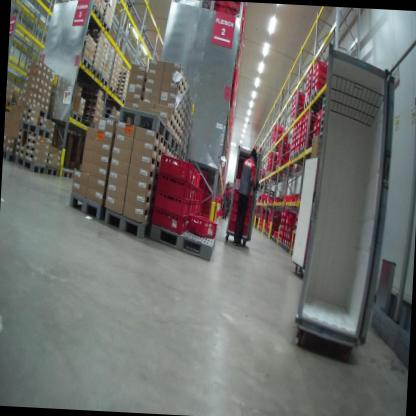forklift: (150, 204, 189, 236), (156, 154, 195, 185), (155, 172, 192, 203), (185, 211, 219, 242), (153, 189, 190, 217), (185, 186, 201, 218), (227, 219, 247, 238), (229, 209, 250, 226), (233, 188, 253, 205), (231, 199, 250, 216), (189, 164, 203, 185), (200, 202, 216, 220), (235, 178, 253, 194), (202, 193, 218, 207), (191, 200, 200, 216), (188, 184, 196, 201)
pallet: (145, 219, 220, 262), (117, 105, 171, 145), (101, 204, 152, 239), (66, 189, 104, 220), (12, 152, 48, 176), (18, 119, 55, 141), (270, 234, 293, 256), (302, 98, 326, 116), (59, 163, 79, 180), (26, 103, 47, 119), (288, 153, 306, 170), (308, 90, 329, 104), (98, 17, 112, 38), (68, 106, 84, 124), (78, 53, 93, 72), (166, 132, 179, 153), (90, 6, 103, 25), (46, 164, 64, 176), (81, 117, 97, 130), (3, 146, 15, 163), (177, 144, 188, 162), (89, 66, 102, 81), (274, 163, 289, 174), (100, 74, 109, 90), (108, 83, 117, 99), (115, 95, 127, 107), (293, 151, 306, 162), (299, 146, 311, 157), (289, 118, 297, 128), (285, 245, 290, 255), (280, 242, 286, 249), (273, 237, 278, 243), (278, 240, 281, 248)
small_load_carrier: (304, 66, 323, 121), (224, 7, 244, 24), (311, 60, 329, 78), (312, 69, 328, 86), (311, 76, 327, 92), (228, 85, 237, 111), (311, 84, 327, 98), (211, 2, 226, 16), (227, 1, 246, 12), (278, 137, 291, 151), (271, 123, 286, 135), (302, 111, 314, 125), (283, 194, 299, 204), (299, 137, 310, 151), (272, 128, 286, 139), (269, 136, 284, 146), (300, 120, 311, 133), (278, 146, 290, 156), (232, 66, 237, 88), (284, 215, 294, 226), (301, 128, 310, 140), (212, 1, 228, 7), (304, 91, 312, 103), (281, 226, 288, 238), (314, 126, 320, 139), (275, 161, 288, 167), (276, 156, 288, 162), (305, 74, 312, 84), (280, 209, 288, 217), (304, 87, 311, 96), (286, 224, 293, 232), (276, 235, 283, 243), (317, 117, 322, 128), (311, 131, 316, 142), (285, 239, 291, 248), (280, 214, 285, 224), (277, 230, 284, 237), (279, 222, 285, 230), (281, 236, 285, 247), (306, 82, 311, 90), (313, 119, 316, 132)
